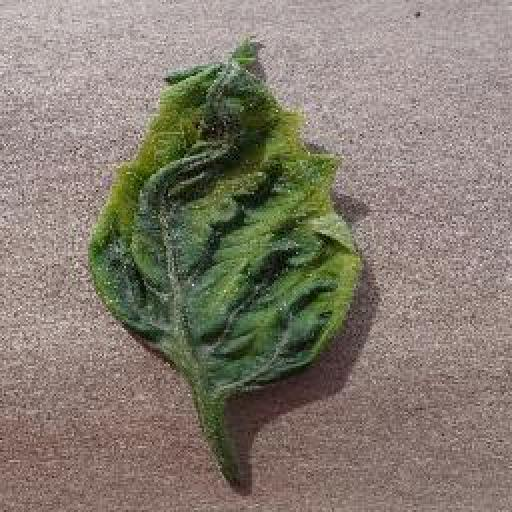disease_tomato: (86, 42, 360, 394)
